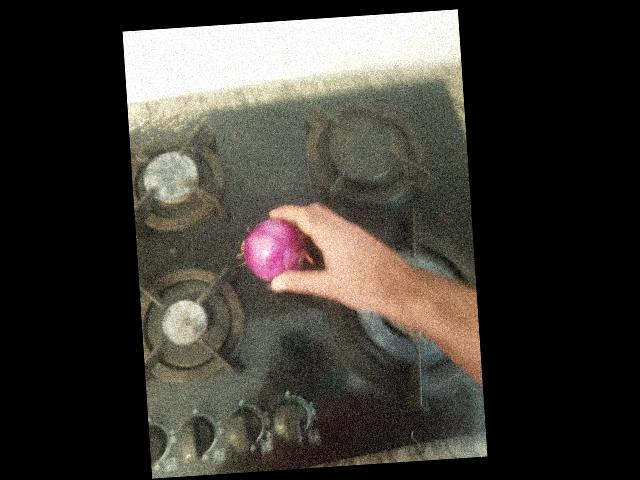onion: (198, 132, 276, 202)
